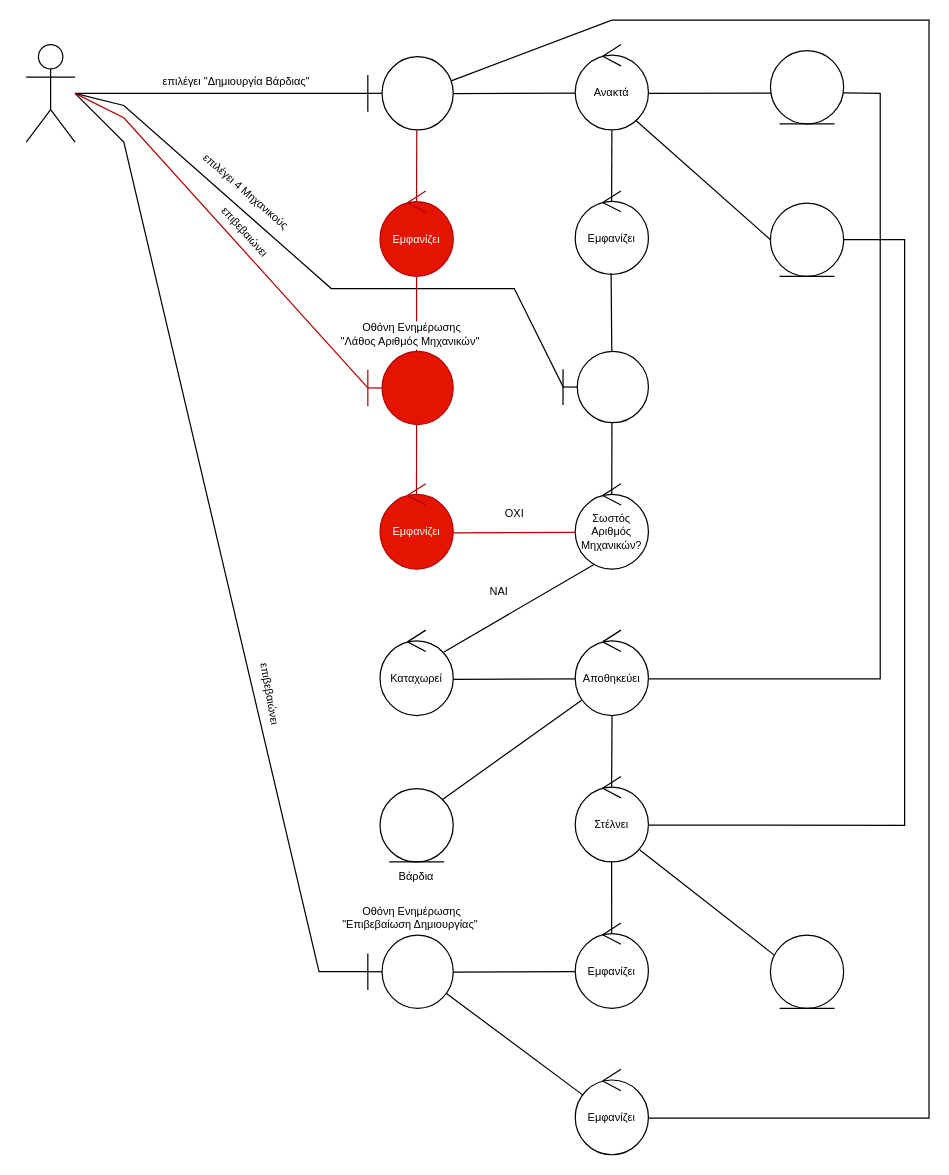
This 949x1175 diagram has some shape labels left out. Here are the shapes that lost their labels. From the top down, the centre of each, then its label:
the point at 50,92: Διαχειριστής
the point at 410,93: Οθόνη Επιλογής "Αρχικό Μενού"
the point at 806,86: Διοίκηση
the point at 806,239: Μηχανικός
the point at 605,386: Οθόνη Επιλογής "Επιλογή Μηχανικών"
the point at 806,971: Ειδοποίηση
